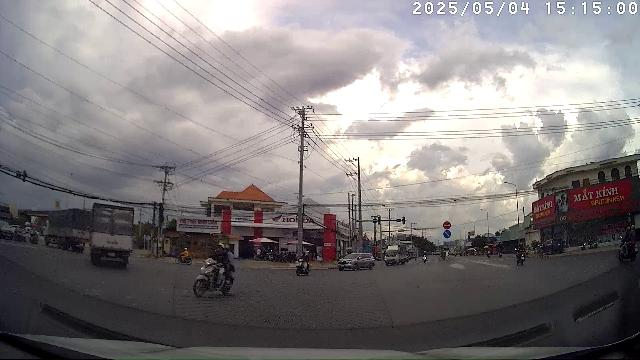102-cam-di-nguoc-chieu: (443, 221, 451, 229)
302a-huong-phai-di-vong-chuong-ngai-vat-1: (443, 230, 451, 238)
